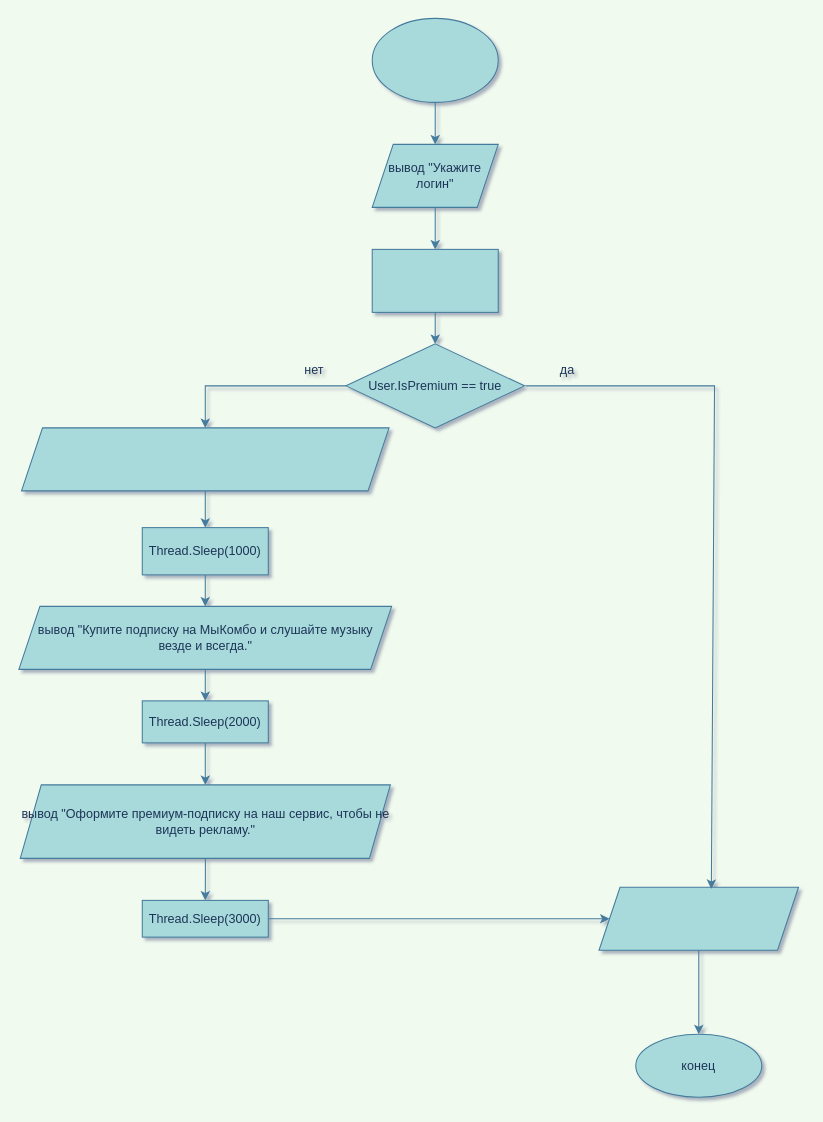
This 823x1122 diagram has some shape labels left out. The shapes that lost their labels are listed below. From the top down, each one's box as (x1, y1, x2, y2) in pixels, then its label:
(371, 17, 498, 102): начало
(371, 248, 498, 312): считать User.Login
(20, 427, 389, 491): вывод "Посетите наш новый сайт с бесплатными играми free.games.for.a.fool.com"
(598, 886, 799, 950): вывод "Приветствую " + User.Name
